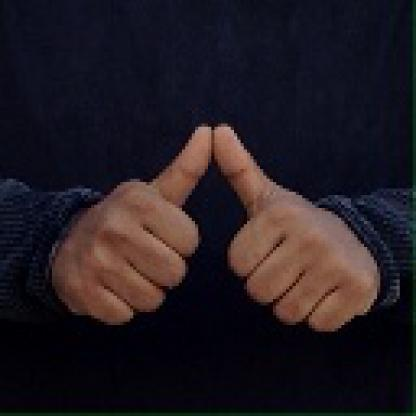A: (52, 119, 380, 336)
